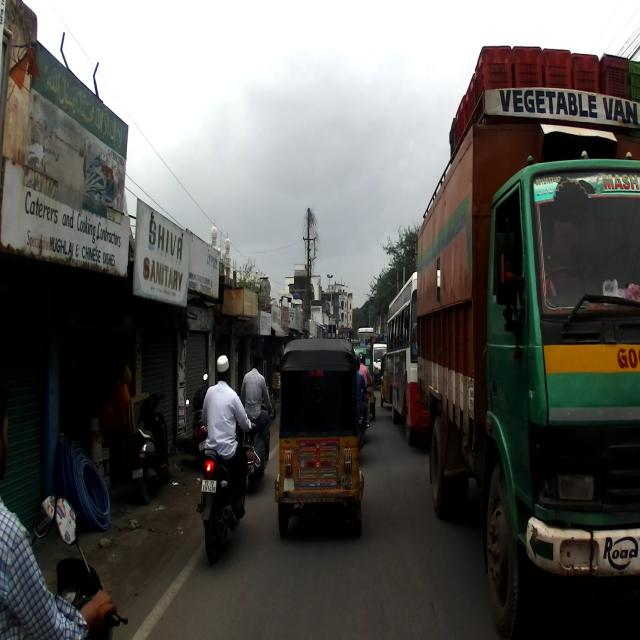autorickshaw: (273, 337, 364, 538)
motorcycle: (196, 419, 252, 565)
scooter: (128, 391, 171, 503), (240, 404, 272, 489)
truck: (407, 44, 640, 639)
